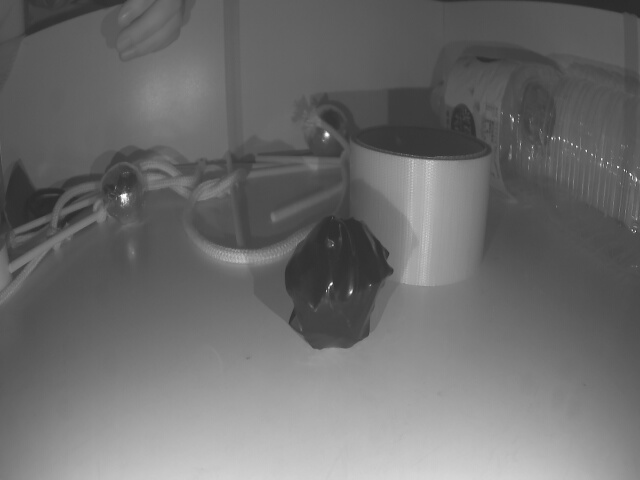Dead: (281, 215, 383, 350)
Live: (100, 160, 145, 219), (305, 100, 347, 159)
